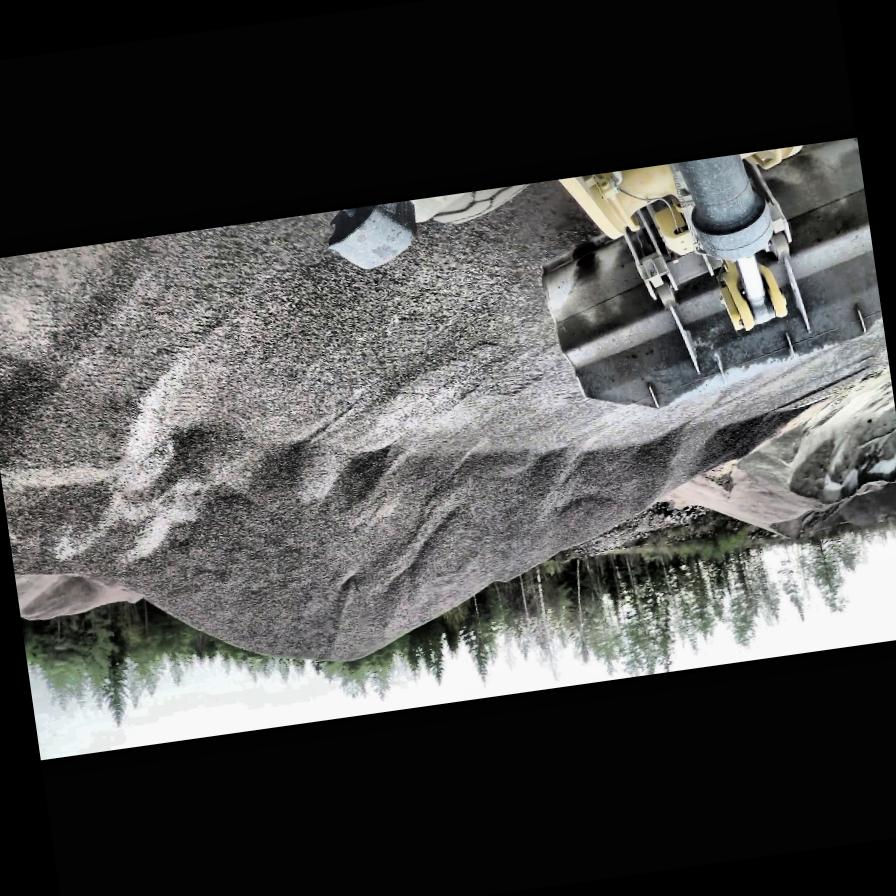anchor: (716, 252, 789, 332)
pile of gravel: (0, 228, 836, 709), (662, 413, 896, 555), (12, 543, 147, 624), (806, 448, 896, 533)
